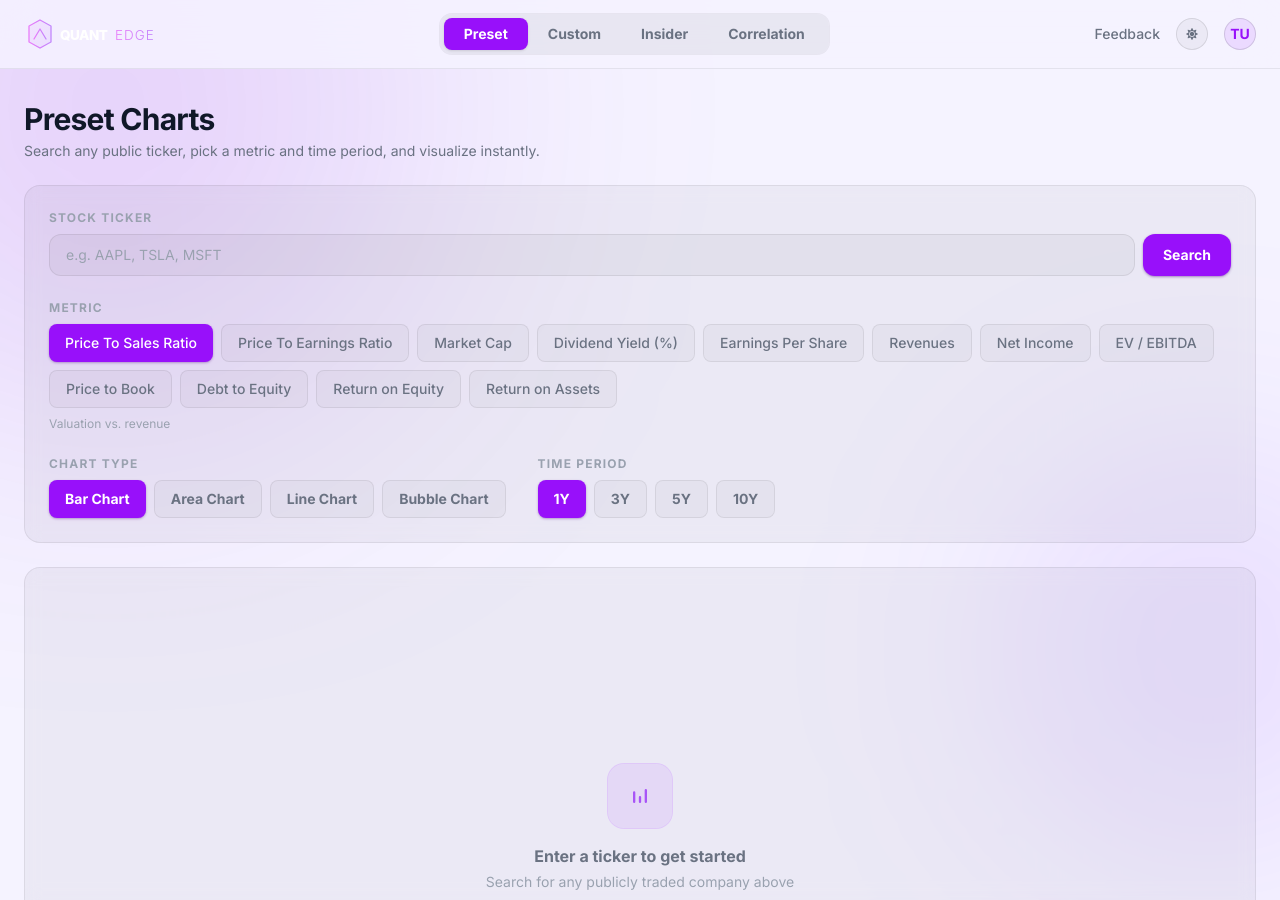
Scenario: PresetChartsPage — bubble chart mode › shows multi-ticker input when Bubble Chart is selected
The width and height of the screenshot is (1280, 900).
Click the button "Bubble Chart" at (444, 499), box [382, 480, 506, 518]
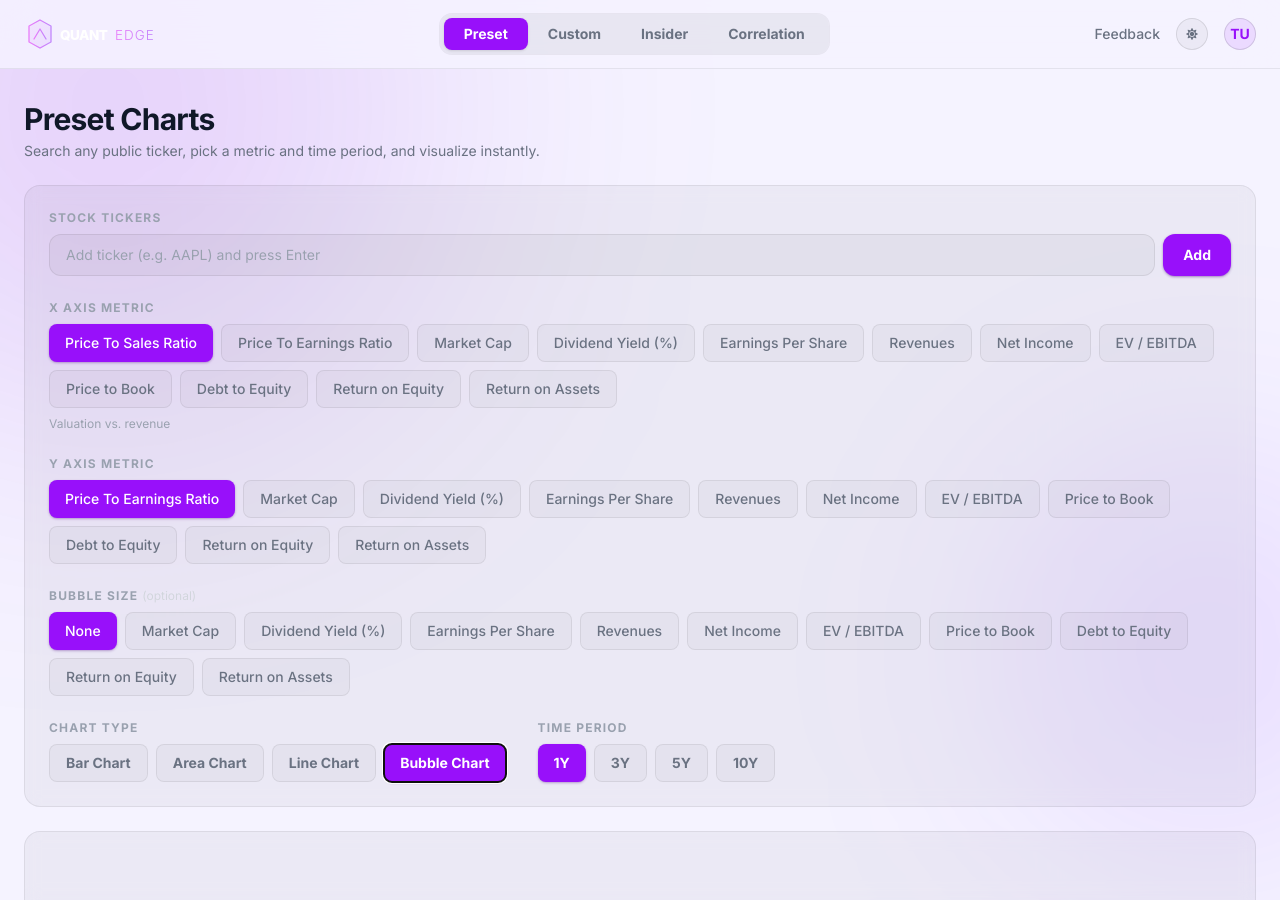
Result: the field with placeholder "Add ticker (e.g. AAPL) and press Enter" is shown at [49, 234, 1155, 276]
